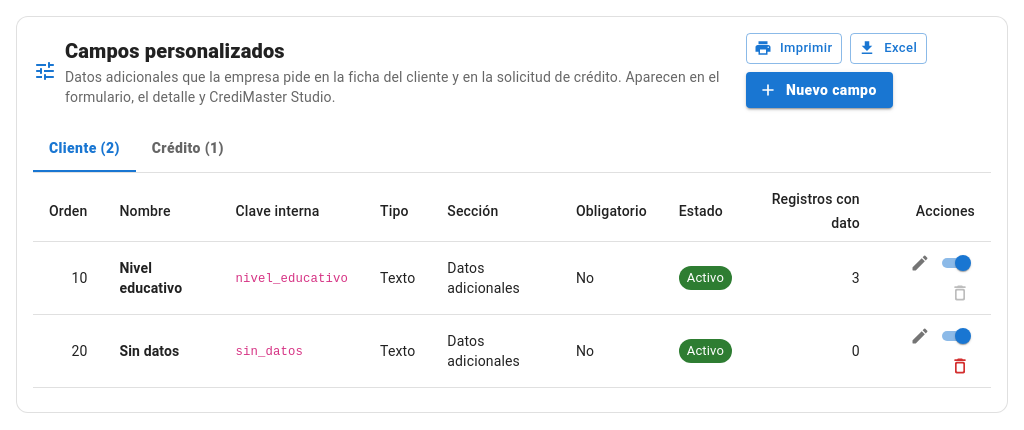
Test: Pantalla de configuración › lista los campos por entidad y no deja eliminar uno con datos
Expected: the text "Nivel educativo" is shown, [103,242,220,315]
Expected: the text "Destino detallado" is not shown
Click the tab "Crédito (1)" at (188, 148), box [136,124,240,172]
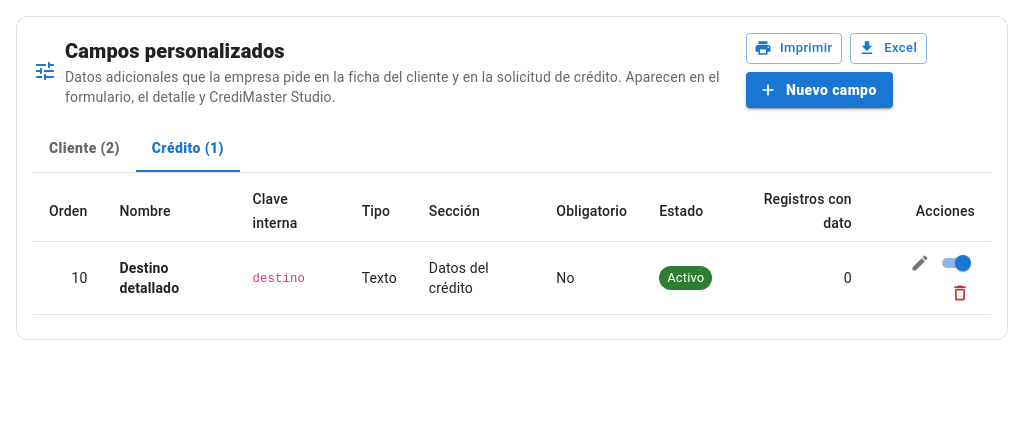
Expected: the text "Destino detallado" is shown, [103,242,237,315]
